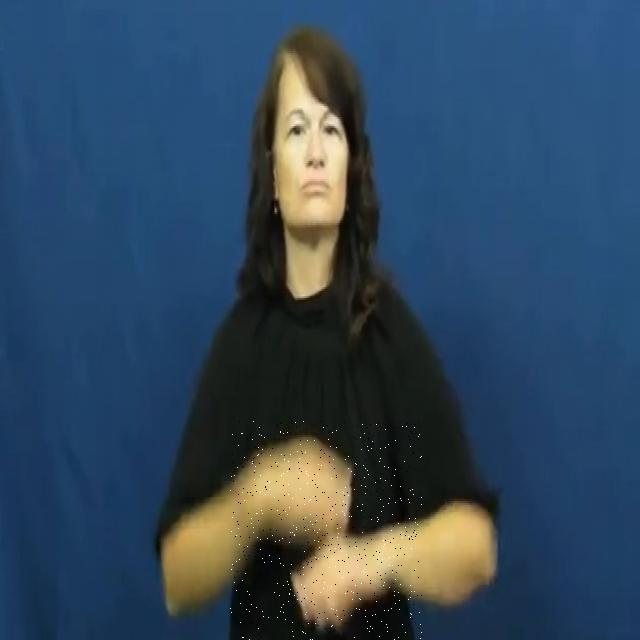enjoy: (230, 421, 422, 640)
